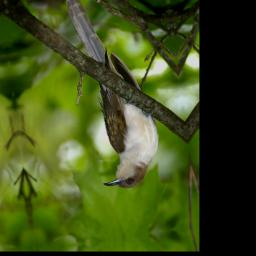Cuckoo: (64, 0, 167, 195)
